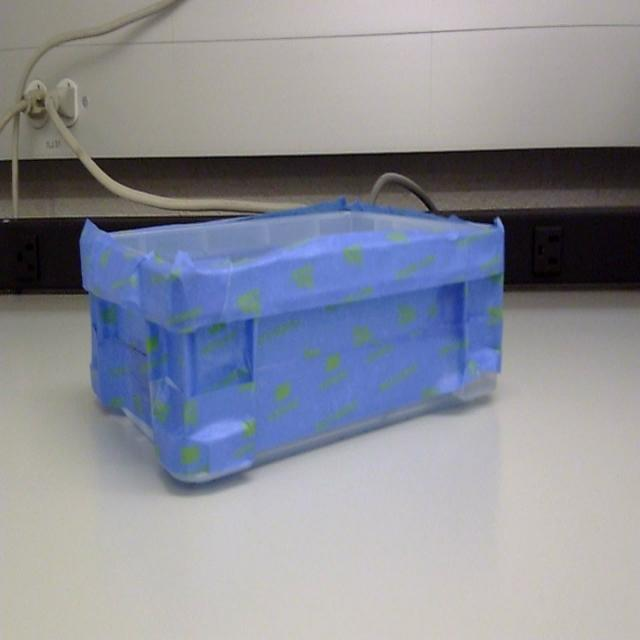bucket: (78, 198, 506, 490)
